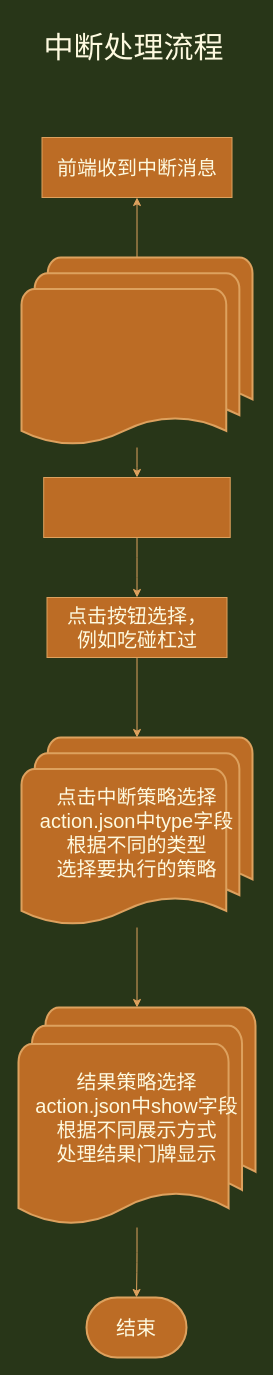
The diagram is 273 pixels wide and 1375 high, and some of its shapes have lost their labels. Here are the shapes that lost their labels. From the top down, the centre of each, then its label:
(x=136, y=352): 展示中断策略选择 特殊例如，换三张， 扣牌，亮喜
(x=136, y=507): 读取action显示功能菜单
